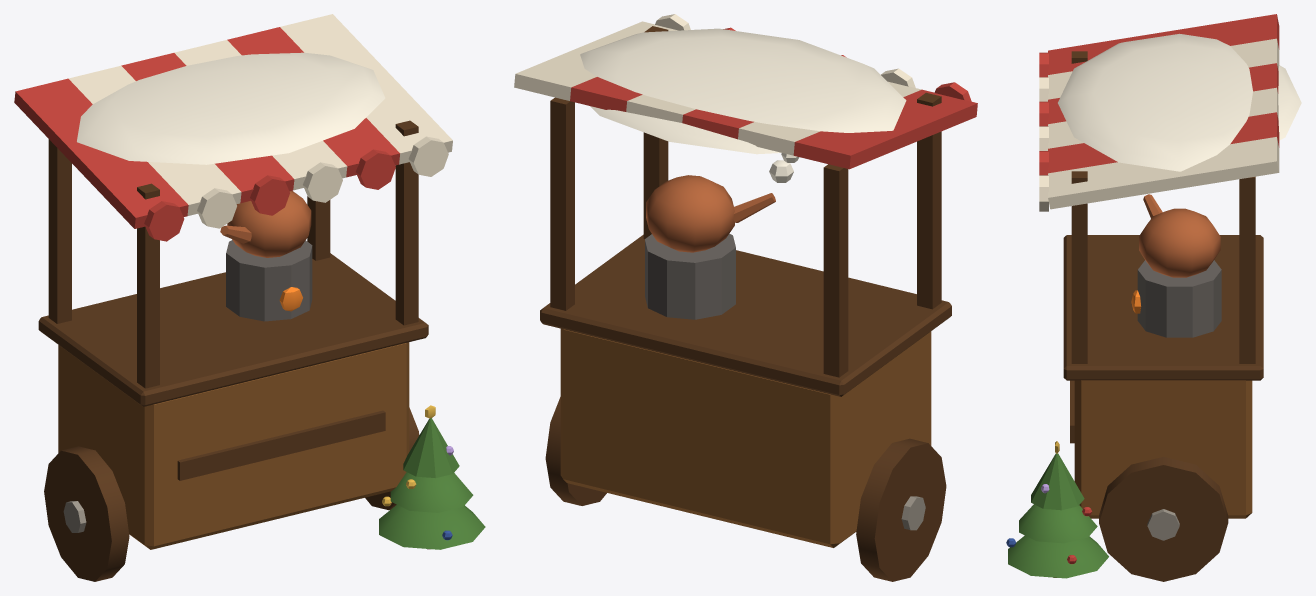
Rendered from PR_Station_SezonKis_T1.fbx.
The picture shows the model from 3 angles, left to right: view 1: azimuth 30°, elevation 25°; view 2: azimuth 150°, elevation 25°; view 3: azimuth 270°, elevation 25°; orthographic projection. The views are drawn at different scales.
Visible parts, largest first — view 1: PR_Station_SezonKis_T1; view 2: PR_Station_SezonKis_T1; view 3: PR_Station_SezonKis_T1.
Part boxes in pixels (x1,y1,x2,y2): PR_Station_SezonKis_T1: (14,14,485,581); PR_Station_SezonKis_T1: (514,14,977,581); PR_Station_SezonKis_T1: (1006,14,1301,581).
Bounding box in the file's own units: 1.19 × 1.44 × 0.9156.
